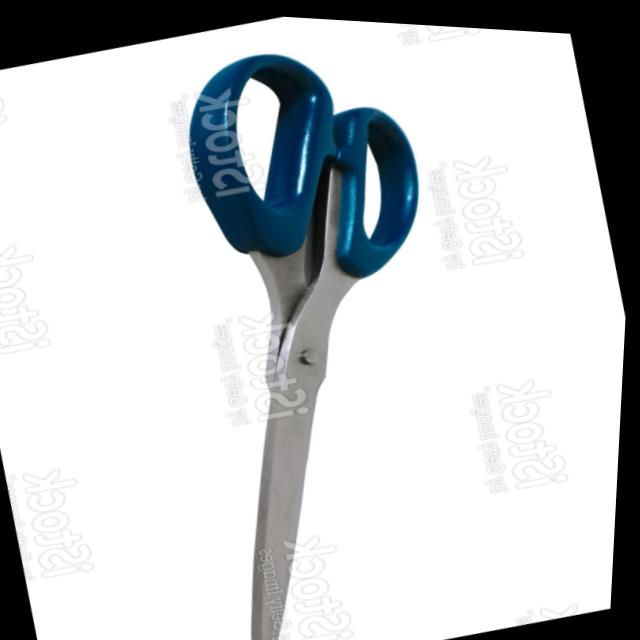scissor: (96, 6, 550, 640)
